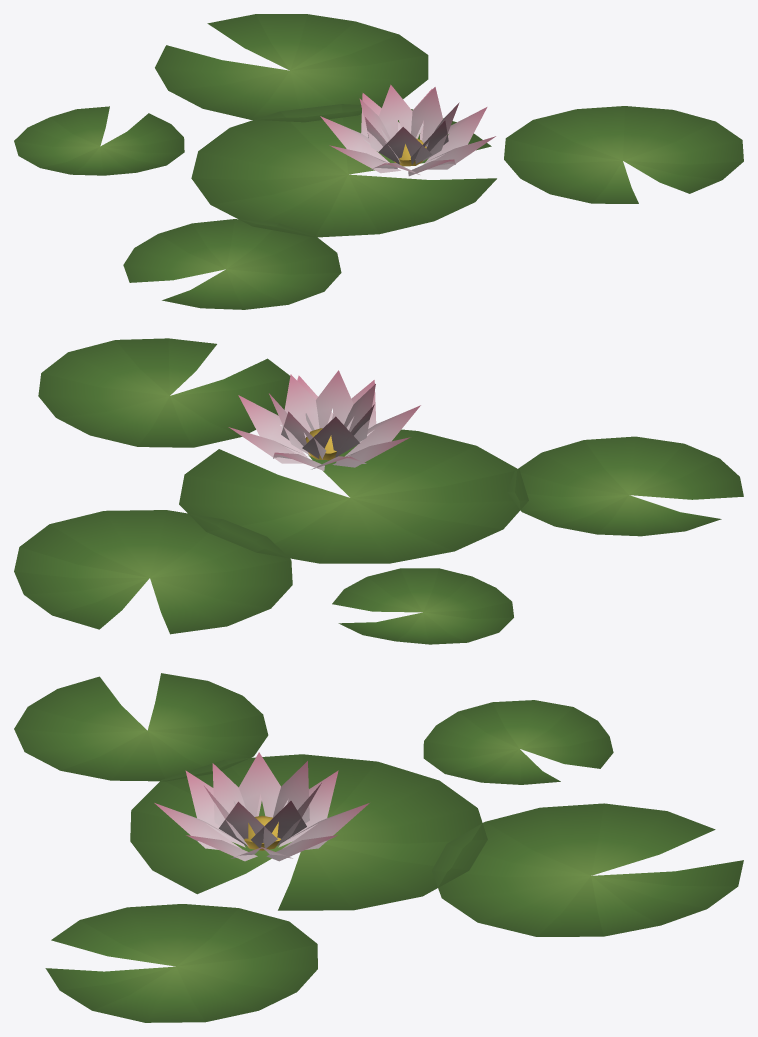
File: lily-pads-a.glb
The picture shows the model from 3 angles, top to bottom: view 1: azimuth 30°, elevation 25°; view 2: azimuth 150°, elevation 25°; view 3: azimuth 270°, elevation 25°; orthographic projection. The views are drawn at different scales.
Parts seen in each view (by area): view 1: lily-pads-a; view 2: lily-pads-a; view 3: lily-pads-a.
Boxes of the visible parts, bbox=[...] form: lily-pads-a: bbox=[14, 14, 743, 309]; lily-pads-a: bbox=[14, 338, 743, 644]; lily-pads-a: bbox=[14, 673, 743, 1022].
Size of the model in its own units: 1.16 by 0.1346 by 1.02.
